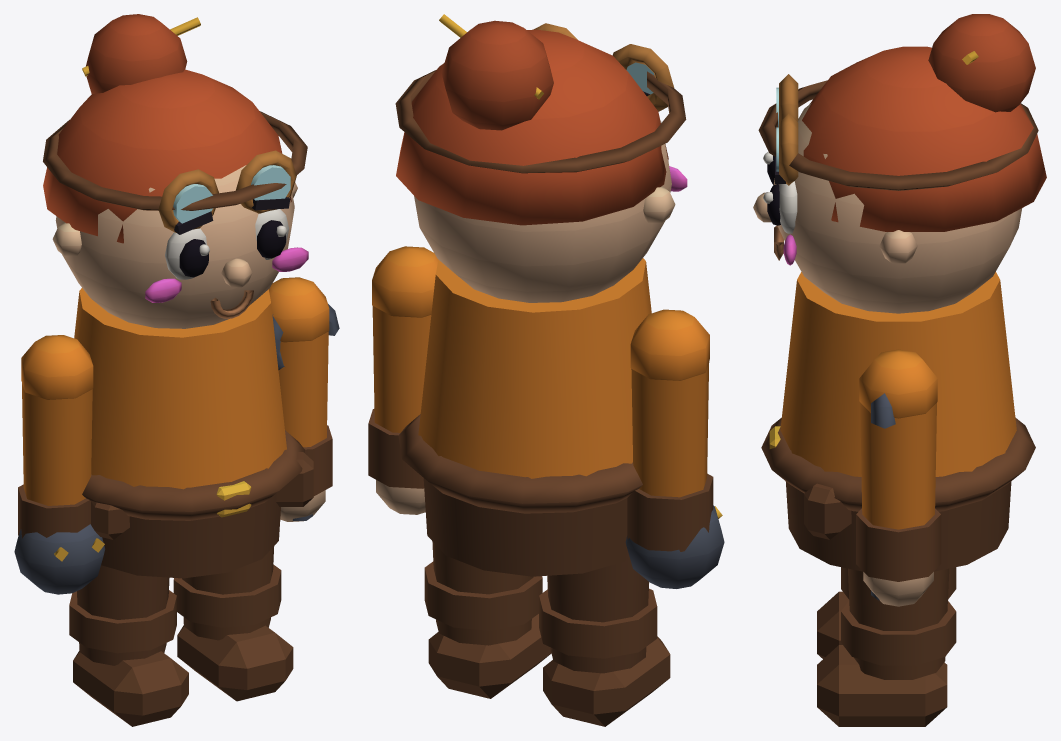
File: hero_tilda.glb
3 views of the same model, side by side, from view 1: azimuth 30°, elevation 25°; view 2: azimuth 150°, elevation 25°; view 3: azimuth 270°, elevation 25° (orthographic). The views are drawn at different scales.
Visible parts, largest first — view 1: body_t0_palette, arml_t0_palette, legl_t0_palette, legr_t0_palette, armr_t0_palette; view 2: body_t0_palette, arml_t0_palette, legl_t0_palette, legr_t0_palette, armr_t0_palette; view 3: body_t0_palette, armr_t0_palette, legr_t0_palette, legl_t0_palette.
Part boxes in pixels (x1,y1,x2,y2): body_t0_palette: [43, 14, 313, 578]; arml_t0_palette: [14, 335, 105, 594]; legl_t0_palette: [69, 565, 188, 726]; legr_t0_palette: [173, 546, 293, 701]; armr_t0_palette: [268, 277, 339, 521]; body_t0_palette: [395, 14, 687, 576]; arml_t0_palette: [625, 309, 724, 588]; legl_t0_palette: [539, 548, 670, 726]; legr_t0_palette: [424, 541, 551, 698]; armr_t0_palette: [368, 246, 438, 514]; body_t0_palette: [753, 14, 1046, 571]; armr_t0_palette: [856, 349, 941, 606]; legr_t0_palette: [817, 568, 956, 726]; legl_t0_palette: [817, 567, 956, 658].
Size of the model in its own units: 0.2772 by 0.54 by 0.214.
